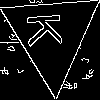K: (27, 10, 71, 48)
